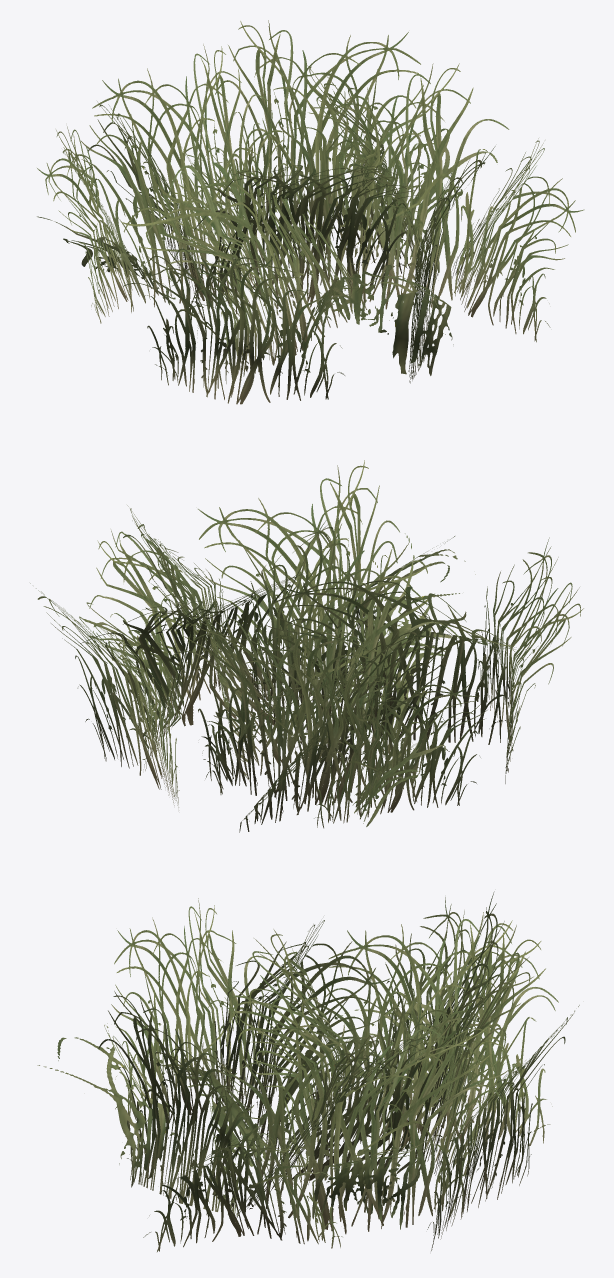
File: wild_grass.glb
The picture shows the model from 3 angles, top to bottom: view 1: azimuth 30°, elevation 25°; view 2: azimuth 150°, elevation 25°; view 3: azimuth 270°, elevation 25°; orthographic projection. The views are drawn at different scales.
Parts seen in each view (by area): view 1: PW_WildGrass_General_Lod1_E; view 2: PW_WildGrass_General_Lod1_E; view 3: PW_WildGrass_General_Lod1_E.
Boxes of the visible parts, x1,y1,x2,y2 form: PW_WildGrass_General_Lod1_E: (37,20,584,404); PW_WildGrass_General_Lod1_E: (30,460,583,832); PW_WildGrass_General_Lod1_E: (37,891,579,1251).
Size of the model in its own units: 1.15 by 0.55 by 1.21.
1 material, 1 textured.
